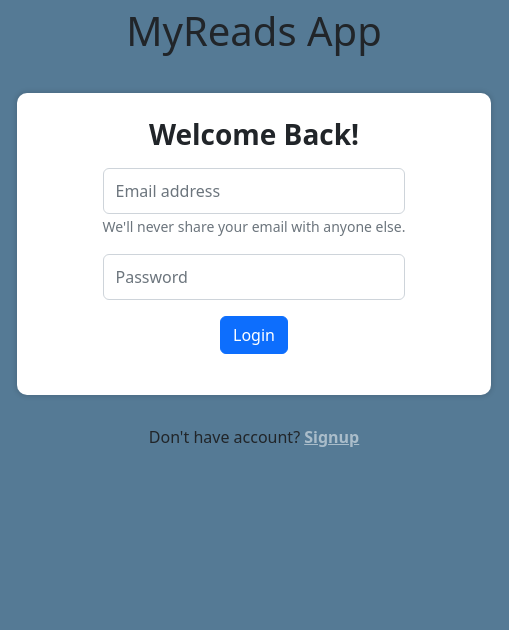
Test: Test Login Page › Check the redirect of user to signup page
This screenshot has width=509, height=630.
Click the link "Signup" at (332, 437), box [304,426,359,448]
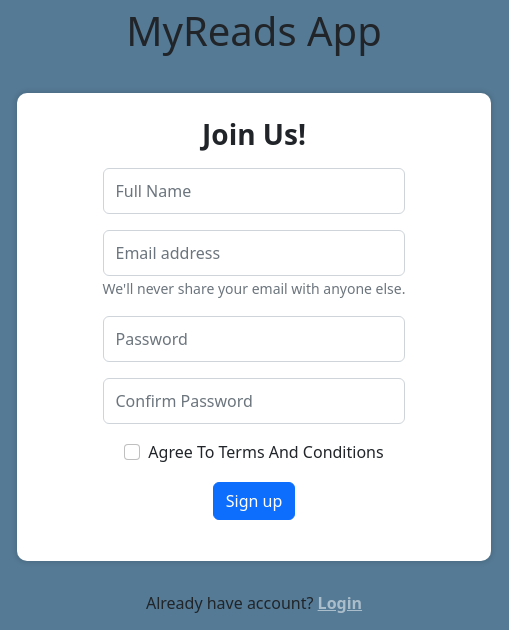
Result: the heading "Join Us!" is shown at [202,118,306,152]
